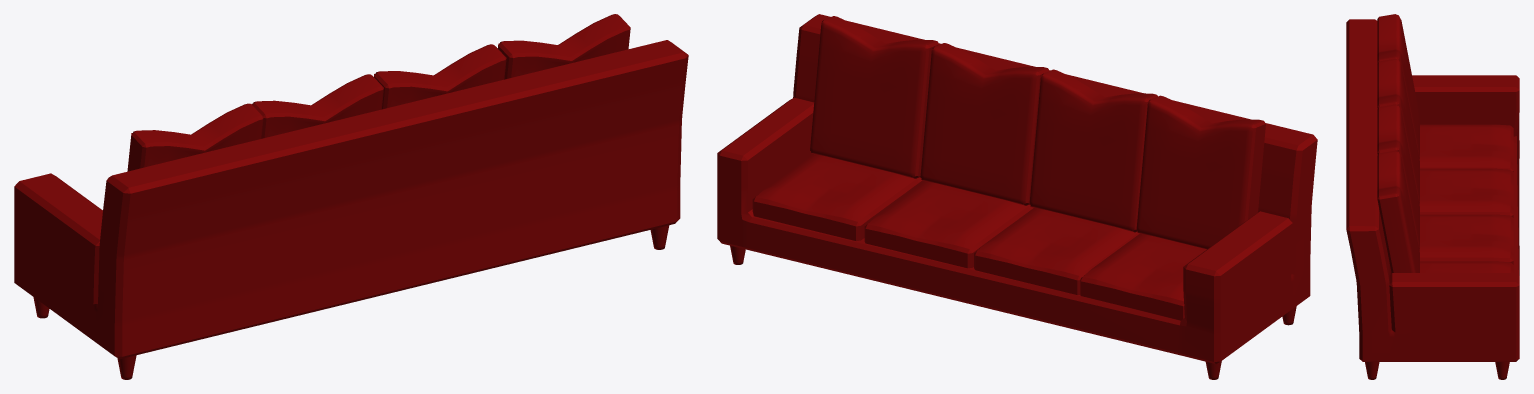
Rendered from LargeCouch.fbx.
3 renders of one model, left to right at view 1: azimuth 30°, elevation 25°; view 2: azimuth 150°, elevation 25°; view 3: azimuth 270°, elevation 25°, orthographic. The views are drawn at different scales.
Visible parts, largest first — view 1: frame, backPillow, backPillow3, backPillow2, backPillow1; view 2: frame, backPillow3, backPillow2, backPillow, backPillow1, cushion, cushion1, cushion2, cushion3; view 3: frame, cushion1, cushion2, cushion3, backPillow3, backPillow2, backPillow1, backPillow, cushion, couchFoot2, couchFoot3.
Part boxes in pixels (x1=…): frame: x1=14, y1=40, x2=688, y2=359; backPillow: x1=127, y1=103, x2=263, y2=171; backPillow3: x1=497, y1=14, x2=630, y2=79; backPillow2: x1=374, y1=44, x2=506, y2=109; backPillow1: x1=251, y1=74, x2=383, y2=138; frame: x1=717, y1=14, x2=1317, y2=363; backPillow3: x1=810, y1=16, x2=939, y2=178; backPillow2: x1=920, y1=43, x2=1049, y2=205; backPillow: x1=1136, y1=95, x2=1265, y2=249; backPillow1: x1=1029, y1=69, x2=1157, y2=232; cushion: x1=752, y1=154, x2=924, y2=240; cushion1: x1=864, y1=181, x2=1033, y2=268; cushion2: x1=974, y1=208, x2=1139, y2=294; cushion3: x1=1080, y1=233, x2=1206, y2=320; frame: x1=1346, y1=19, x2=1519, y2=361; cushion1: x1=1419, y1=214, x2=1513, y2=264; cushion2: x1=1419, y1=168, x2=1513, y2=217; cushion3: x1=1419, y1=124, x2=1513, y2=171; backPillow3: x1=1377, y1=150, x2=1419, y2=273; backPillow2: x1=1377, y1=104, x2=1419, y2=250; backPillow1: x1=1377, y1=58, x2=1419, y2=203; backPillow: x1=1377, y1=14, x2=1419, y2=158; cushion: x1=1391, y1=261, x2=1513, y2=273; couchFoot2: x1=1495, y1=362, x2=1509, y2=379; couchFoot3: x1=1365, y1=362, x2=1379, y2=379.
Size of the model in its own units: 7.62 by 2.94 by 2.65.
